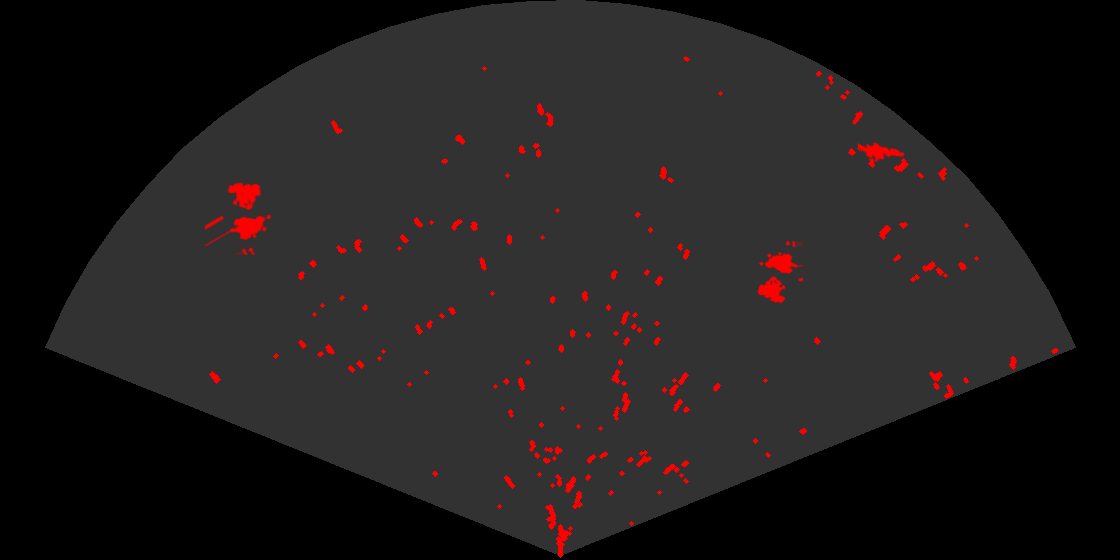cage: (205, 181, 273, 255), (756, 241, 803, 305)
frogman: (858, 141, 906, 164)
